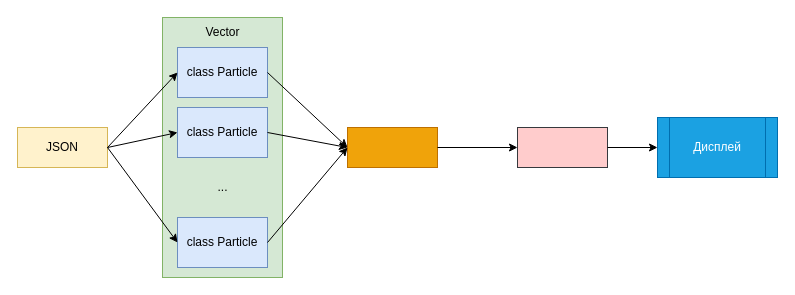
Image size: 795x295. Some labels were removed from this diagram. The centre of each missing label's shape, as x and y in pixels:
"class UI" goes at [392,147].
"OpenGL library" goes at [562,147].
